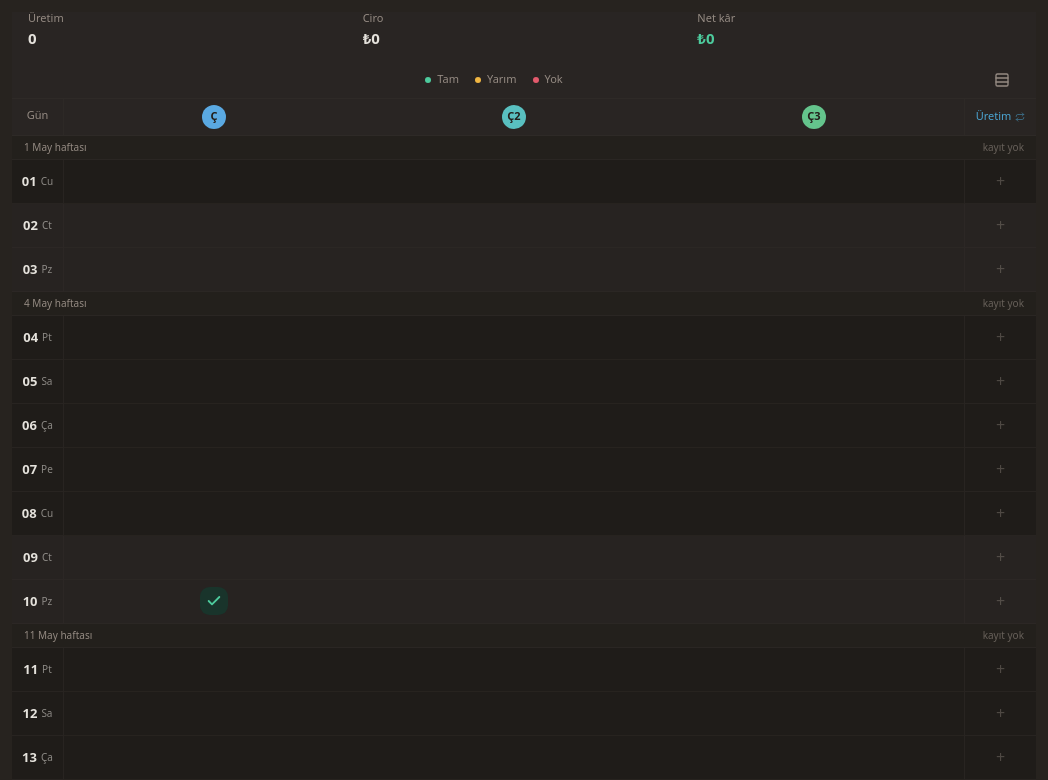
it: puantaj hücresi geri bildirimi › hücredeki geri al düğmesi durumu eski haline döndürür
Step 1. Click the button named "Çalışan 1, 10 Mayıs Pazar: Tam" → (214, 602), box [64, 580, 364, 624]
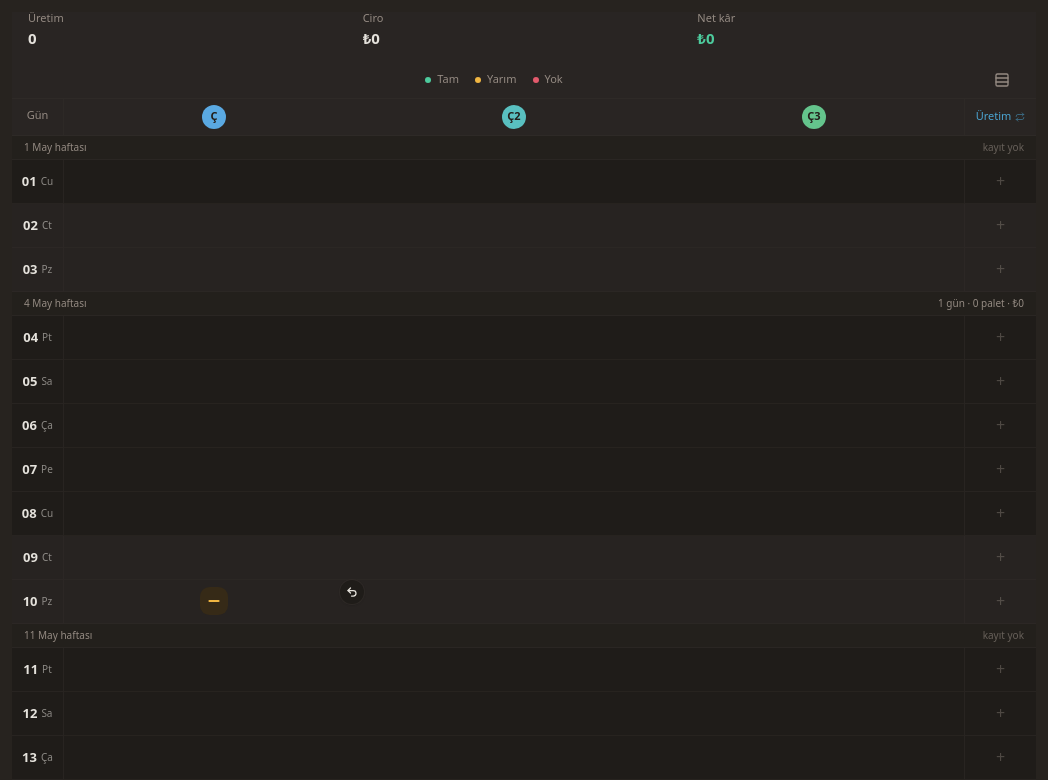
Result: the button named "Çalışan 1, 10 Mayıs Pazar: Yarım" is shown at [64, 580, 364, 624]
Step 2. Click the button named "Çalışan 1, 10 Mayıs Pazar değişikliğini geri al" → (352, 592), box [340, 580, 364, 604]
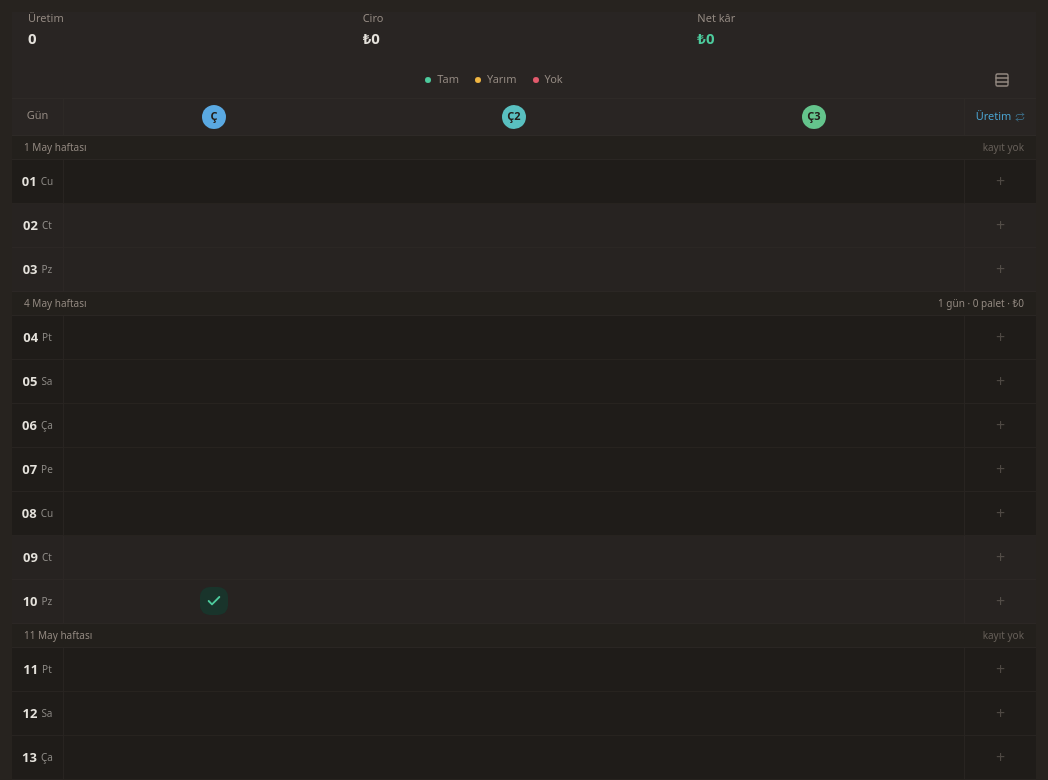
Result: the button named "Çalışan 1, 10 Mayıs Pazar: Tam" is shown at [64, 580, 364, 624]
